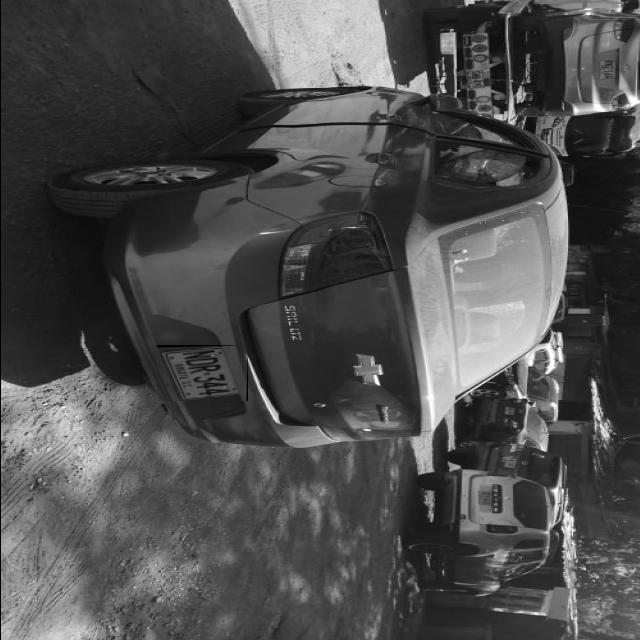plate: (156, 345, 246, 401)
